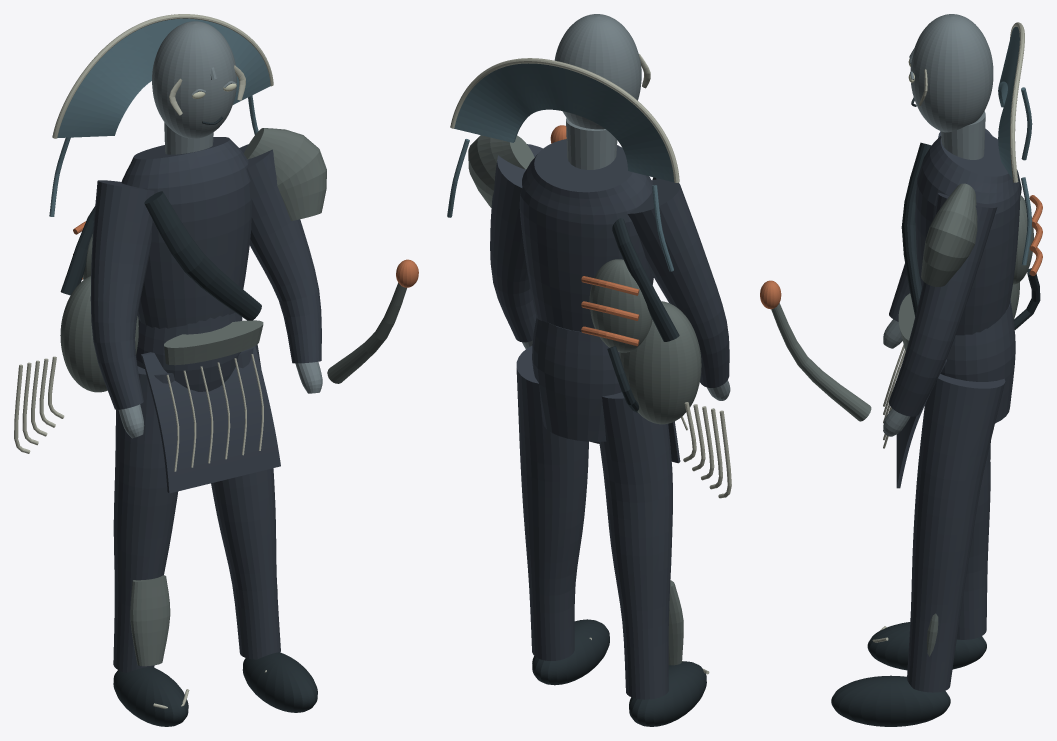
File: RiftForager.obj
The picture shows the model from 3 angles, left to right: view 1: azimuth 30°, elevation 25°; view 2: azimuth 150°, elevation 25°; view 3: azimuth 270°, elevation 25°; orthographic projection. The views are drawn at different scales.
Parts seen in each view (by area): view 1: Avarin_Torso, Salvage_SplitFieldApron, Avarin_Leg_L, Avarin_Arm_L, Avarin_Leg_R, Avarin_Arm_R, Avarin_LivingCrescentMantle, Avarin_TempleFace, Forager_OffsetShoulder, Salvage_ChestBraid, Avarin_Pelvis, Forager_LowRouteSatchel (+9 smaller); view 2: Avarin_Leg_L, Avarin_Torso, Avarin_Leg_R, Avarin_LivingCrescentMantle, Avarin_Arm_L, Avarin_Pelvis, Forager_LowRouteSatchel, Avarin_Arm_R, Avarin_TempleFace, Wake_EngineeredCaptureHousing, Avarin_Foot_L, Avarin_Foot_R (+7 smaller); view 3: Avarin_Leg_R, Avarin_Torso, Avarin_TempleFace, Avarin_Arm_R, Avarin_Foot_R, Avarin_Pelvis, Forager_OffsetShoulder, Avarin_Leg_L, Avarin_Foot_L, Forager_Probe, Salvage_ChestBraid, Avarin_LivingCrescentMantle (+10 smaller).
Part boxes in pixels (x1,y1,x2,y2): Avarin_Torso: (121, 137, 251, 328); Salvage_SplitFieldApron: (141, 346, 280, 493); Avarin_Leg_L: (113, 366, 178, 672); Avarin_Arm_L: (90, 180, 155, 409); Avarin_Leg_R: (211, 344, 280, 659); Avarin_Arm_R: (239, 144, 321, 363); Avarin_LivingCrescentMantle: (57, 18, 270, 137); Avarin_TempleFace: (152, 21, 236, 138); Forager_OffsetShoulder: (243, 128, 326, 220); Salvage_ChestBraid: (144, 191, 261, 320); Avarin_Pelvis: (136, 312, 242, 391); Forager_LowRouteSatchel: (60, 276, 138, 392); Avarin_Leg_L: (599, 392, 672, 699); Avarin_Torso: (519, 139, 653, 331); Avarin_Leg_R: (516, 346, 588, 660); Avarin_LivingCrescentMantle: (454, 63, 674, 182); Avarin_Arm_L: (627, 179, 729, 387); Avarin_Pelvis: (532, 317, 621, 441); Forager_LowRouteSatchel: (619, 301, 701, 424); Avarin_Arm_R: (490, 144, 542, 342); Avarin_TempleFace: (554, 14, 641, 129); Wake_EngineeredCaptureHousing: (589, 259, 652, 352); Avarin_Foot_L: (629, 661, 706, 726); Avarin_Foot_R: (532, 619, 609, 685); Avarin_Leg_R: (907, 374, 1005, 692); Avarin_Torso: (915, 132, 1020, 335); Avarin_TempleFace: (910, 14, 993, 132); Avarin_Arm_R: (889, 192, 997, 416); Avarin_Foot_R: (831, 675, 950, 726); Avarin_Pelvis: (940, 300, 1015, 423); Forager_OffsetShoulder: (921, 183, 977, 286); Avarin_Leg_L: (957, 441, 990, 639); Avarin_Foot_L: (867, 622, 986, 670); Forager_Probe: (771, 303, 871, 421); Salvage_ChestBraid: (901, 142, 931, 316); Avarin_LivingCrescentMantle: (998, 26, 1019, 179).
Bounding box in the file's own units: 0.818 × 1.82 × 0.6862.
